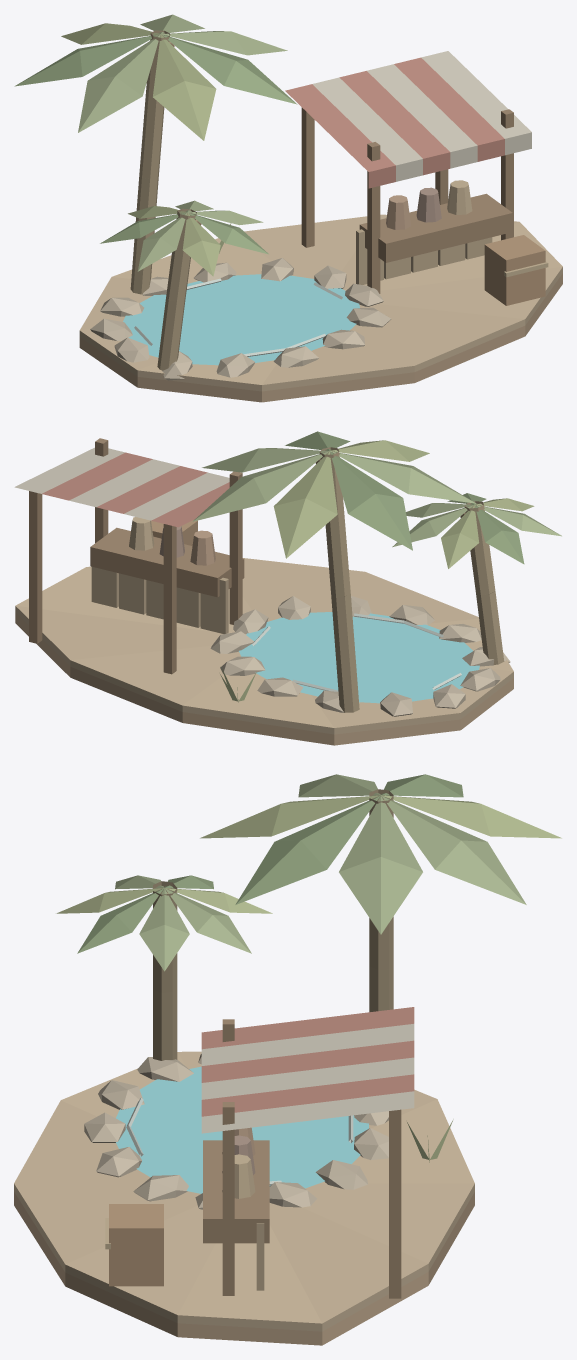
3 views of the same model, one above another, from view 1: azimuth 30°, elevation 25°; view 2: azimuth 150°, elevation 25°; view 3: azimuth 270°, elevation 25° (orthographic). The views are drawn at different scales.
Parts seen in each view (by area): view 1: S04; view 2: S04; view 3: S04.
Boxes of the visible parts, box(x1,y1,x2,y2) form: S04: box(14, 14, 562, 402); S04: box(14, 431, 561, 745); S04: box(14, 774, 561, 1345).
Size of the model in its own units: 5.3 by 2.96 by 4.29.
